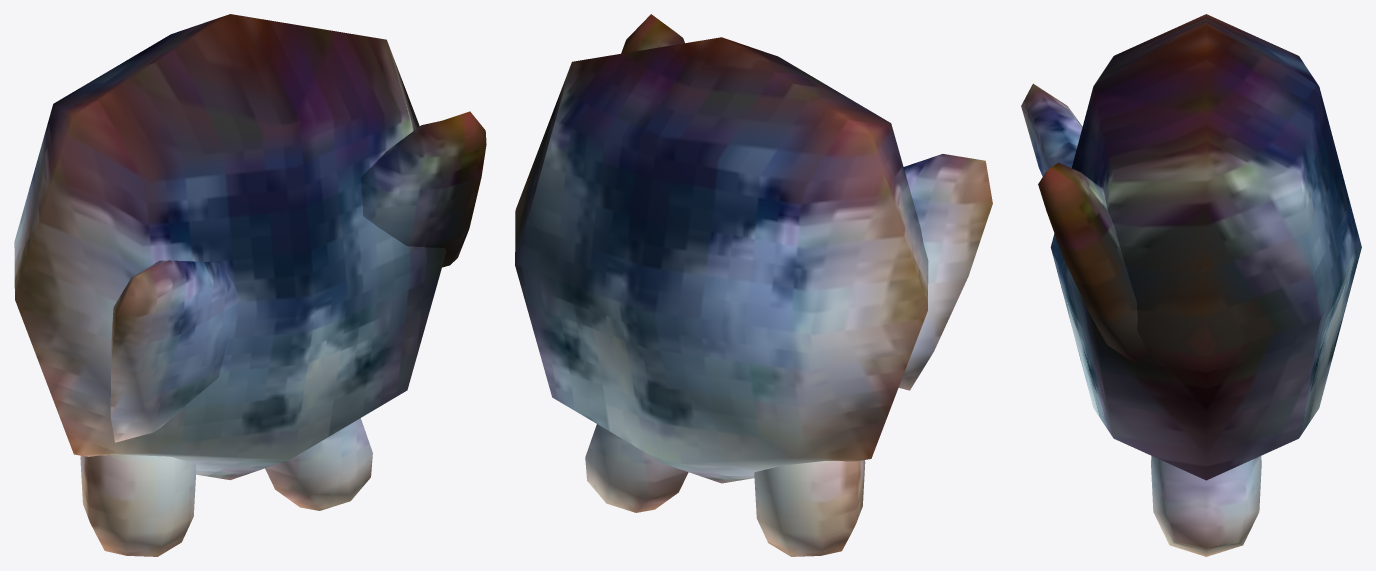
Rendered from crazy.fbx.
The picture shows the model from 3 angles, left to right: view 1: azimuth 30°, elevation 25°; view 2: azimuth 150°, elevation 25°; view 3: azimuth 270°, elevation 25°; orthographic projection. The views are drawn at different scales.
Visible parts, largest first — view 1: Cube.005; view 2: Cube.005; view 3: Cube.005.
Part boxes in pixels (bbox=[...]): Cube.005: bbox=[14, 14, 486, 556]; Cube.005: bbox=[515, 14, 992, 556]; Cube.005: bbox=[1021, 14, 1361, 556].
Bounding box in the file's own units: 81.27 × 93.27 × 58.63.
